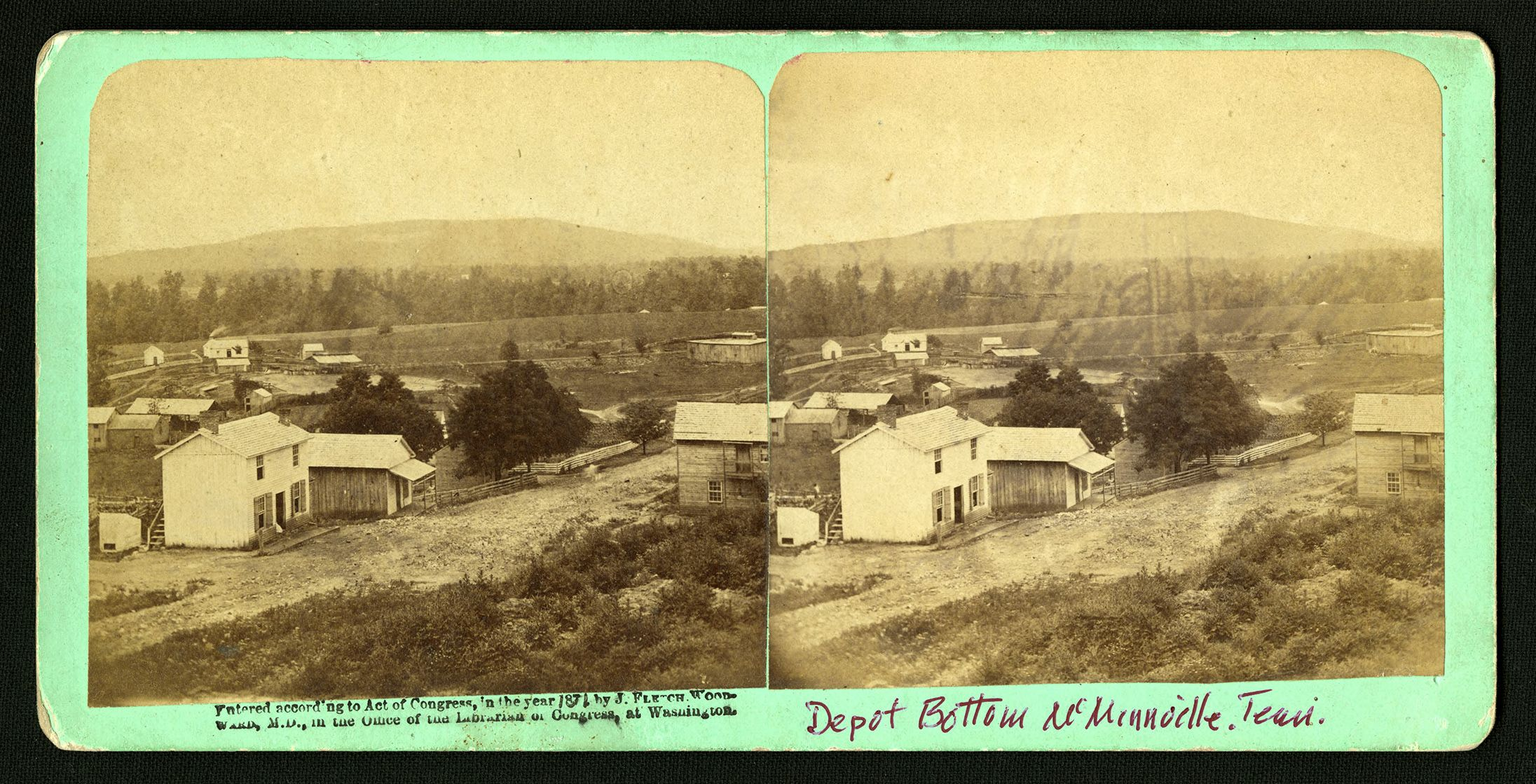half_image: (90, 57, 767, 706), (769, 48, 1443, 689)
